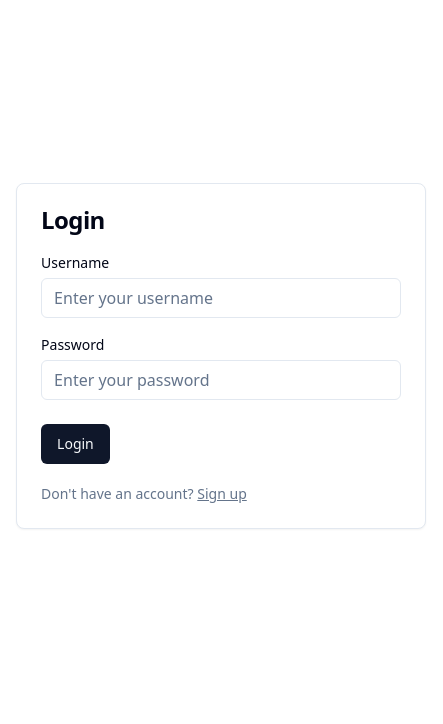
Test: LoginPage › validates sign up correctly
The image size is (443, 724).
Step 1. Click the text "Sign up" → {"x": 222, "y": 494}, box [197,484,247,503]
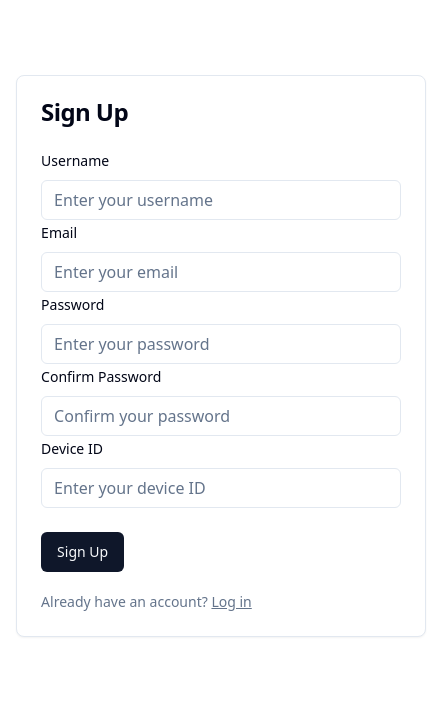
Note: less than 2 characters username
Step 2. Type "1" into the field named "username" → {"x": 221, "y": 200}, box [41,180,401,220]
Note: invalid email
Step 3. Type "email" into the field named "email" → {"x": 221, "y": 272}, box [41,252,401,292]
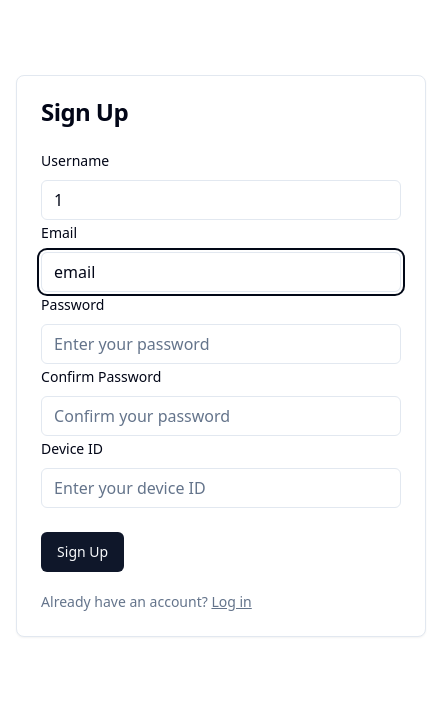
Note: less than 6 characters password
Step 4. Type "pass" into the password field named "password" → {"x": 221, "y": 344}, box [41,324,401,364]
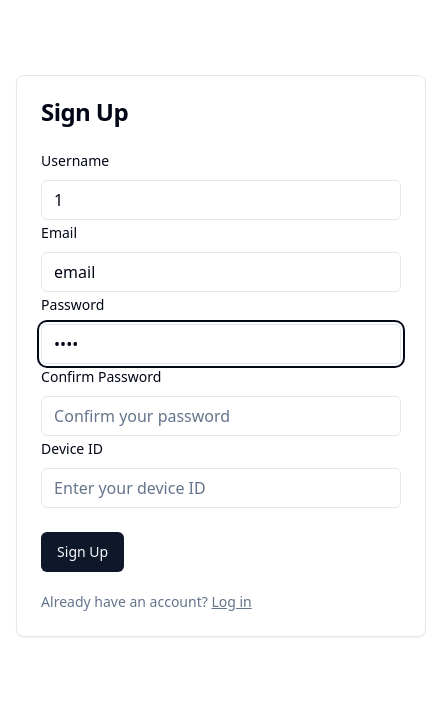
Note: password does not match
Step 5. Type "password" into the password field named "confirmPassword" → {"x": 221, "y": 416}, box [41,396,401,436]
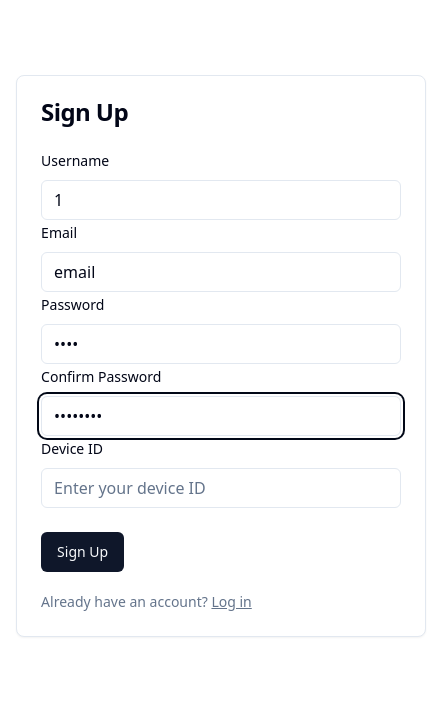
Note: device id less than 6 characters
Step 6. Type "12345" into the field named "deviceid" → {"x": 221, "y": 488}, box [41,468,401,508]
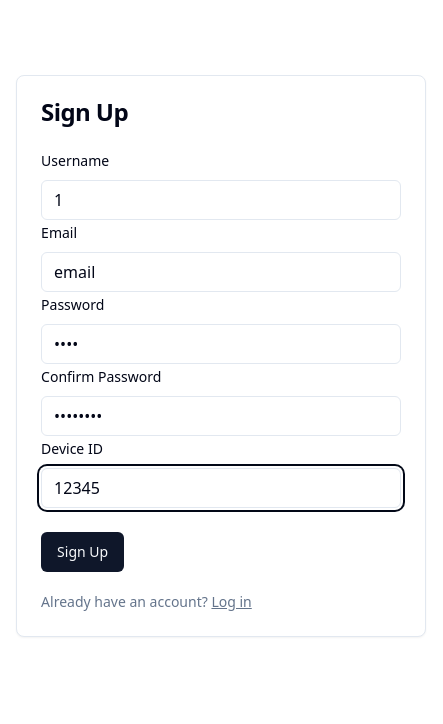
Step 7. Submit the form, box [41,532,124,572]
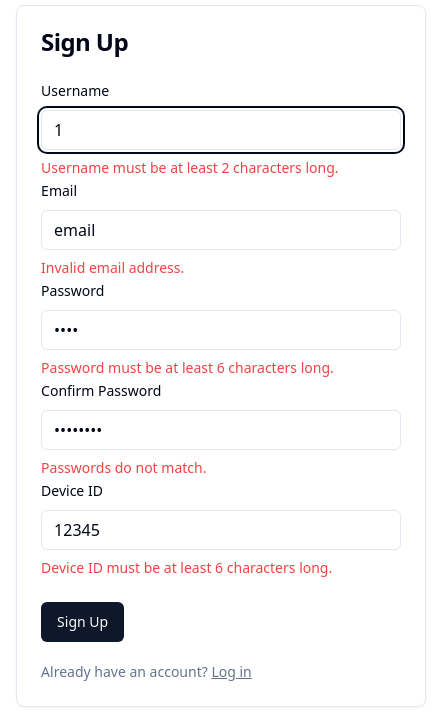
Check: the text "Username must be at least 2 characters long." is shown, box [41,158,339,177]
Check: the text "Invalid email address." is shown, box [41,258,184,277]
Check: the text "Password must be at least 6 characters long." is shown, box [41,358,334,377]
